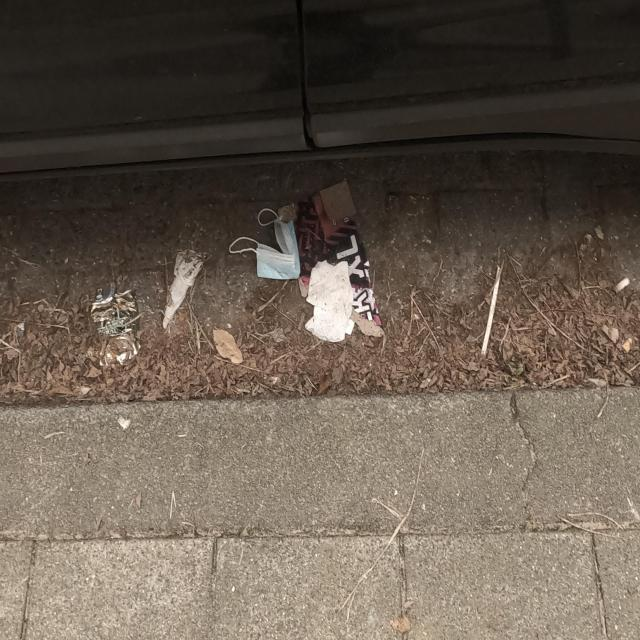Can-Metal: (88, 281, 140, 364)
Mask: (228, 206, 301, 282)
Paper: (304, 258, 356, 344), (162, 247, 204, 331)
